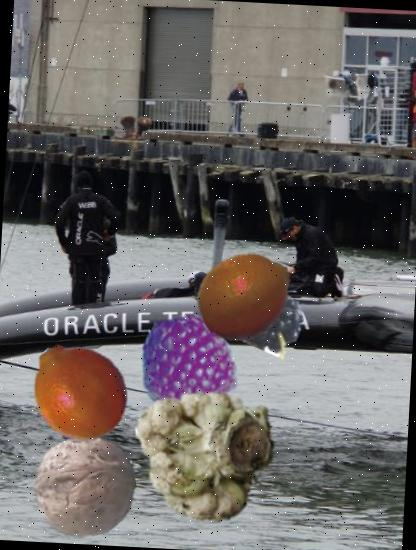Cauliflower: (133, 380, 282, 530)
Mulberry: (232, 265, 320, 354)
Raspberry: (136, 310, 239, 414)
Tangelo: (24, 336, 134, 445), (194, 242, 298, 348)
Walnut: (30, 432, 138, 540)
